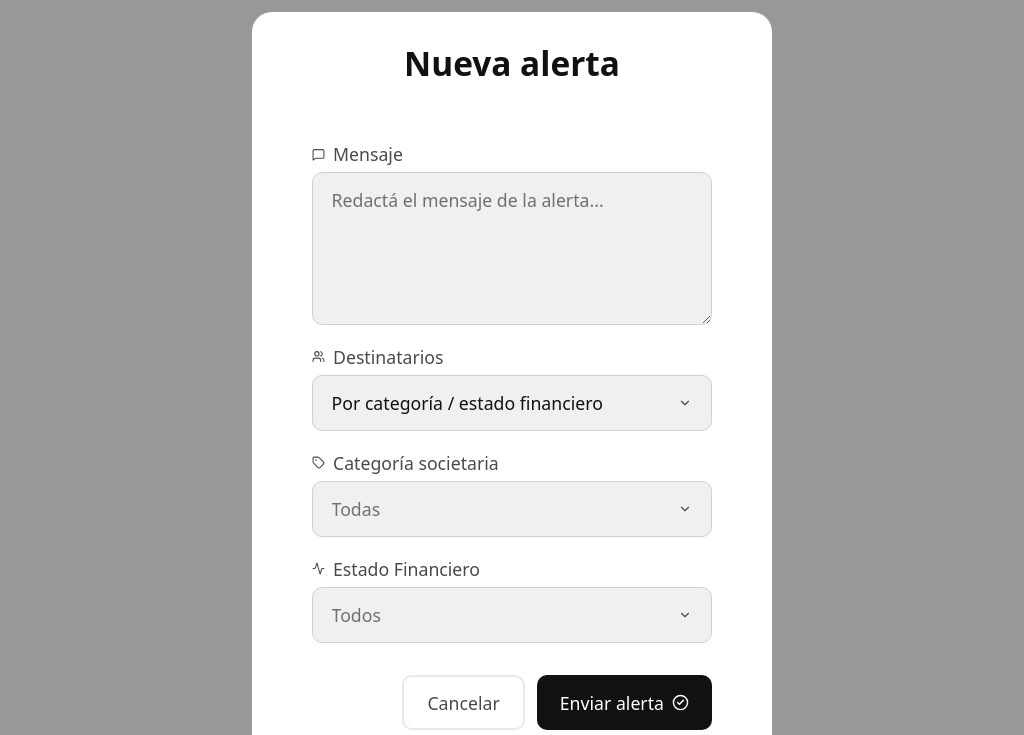
CreateAlertaForm › no envía si el mensaje está vacío
Click the button "Enviar alerta": point(624, 703) x1=537 y1=675 x2=712 y2=730
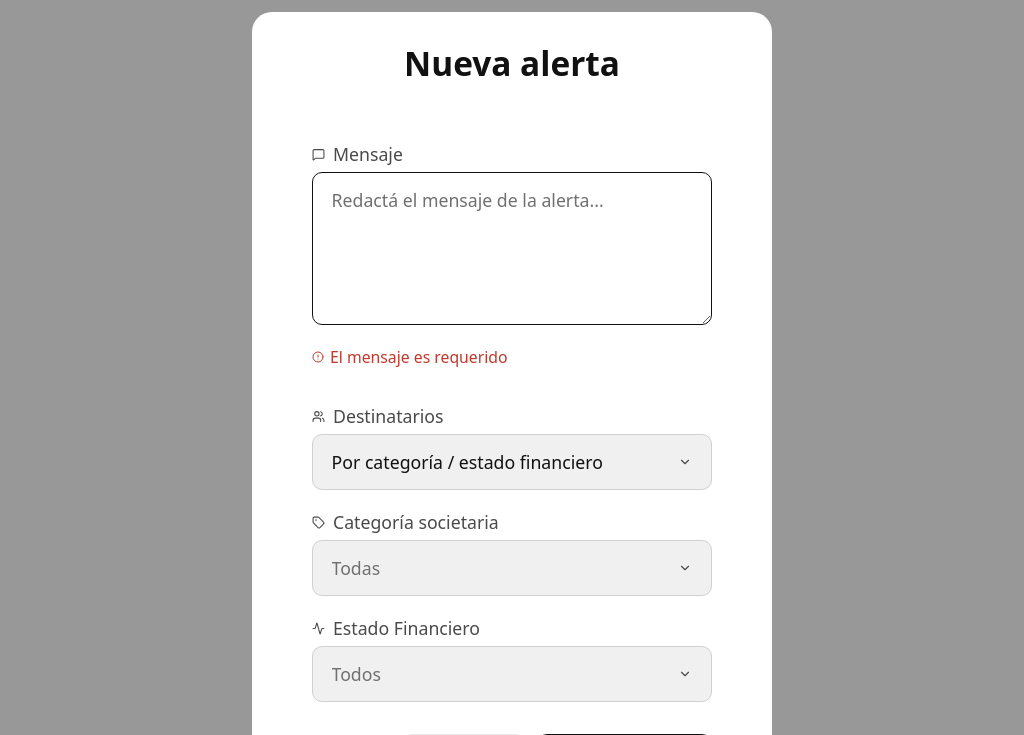
Now the text "El mensaje es requerido" is shown, box x1=312 y1=346 x2=508 y2=368
